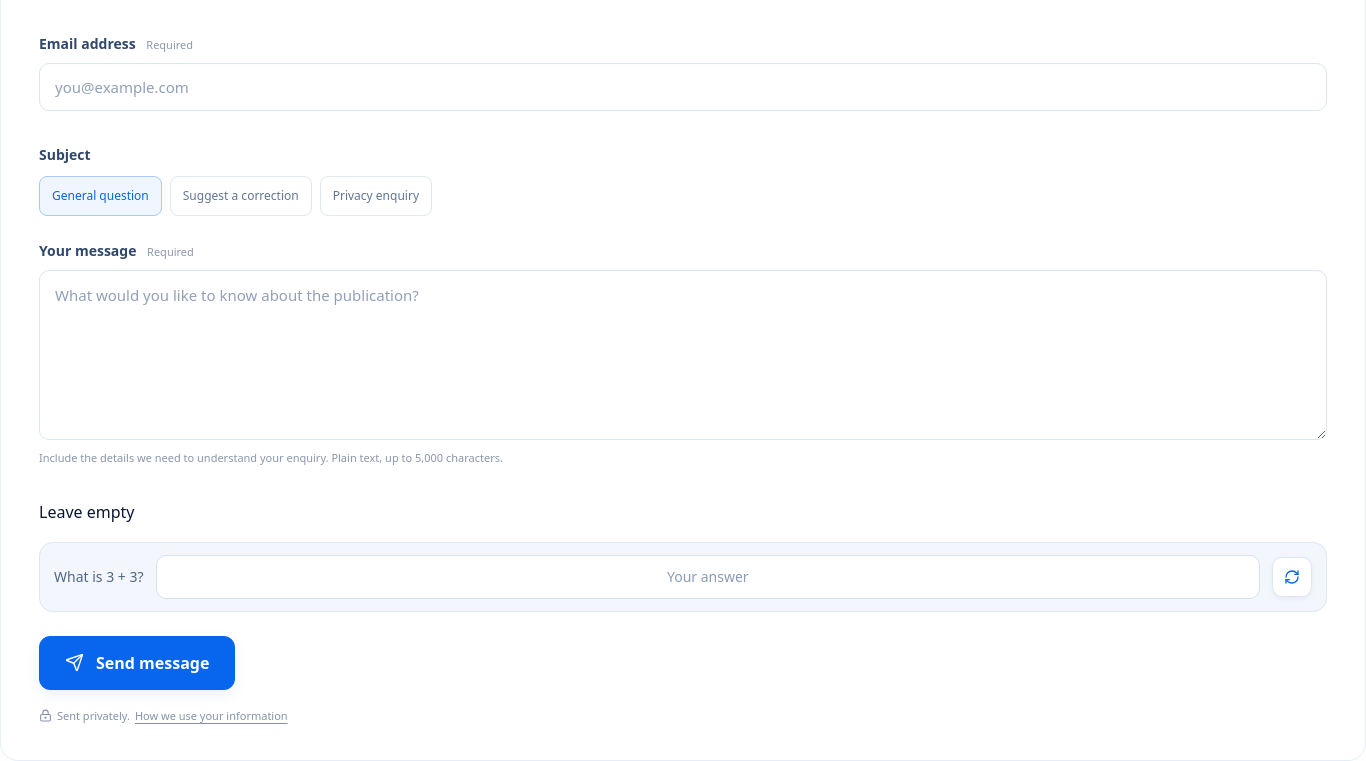
Test: general contact › validates required information and focuses the first invalid field
This screenshot has width=1366, height=761.
(page scrolled)
Click the button "Send message". click: (137, 663)
box: [39, 636, 235, 690]
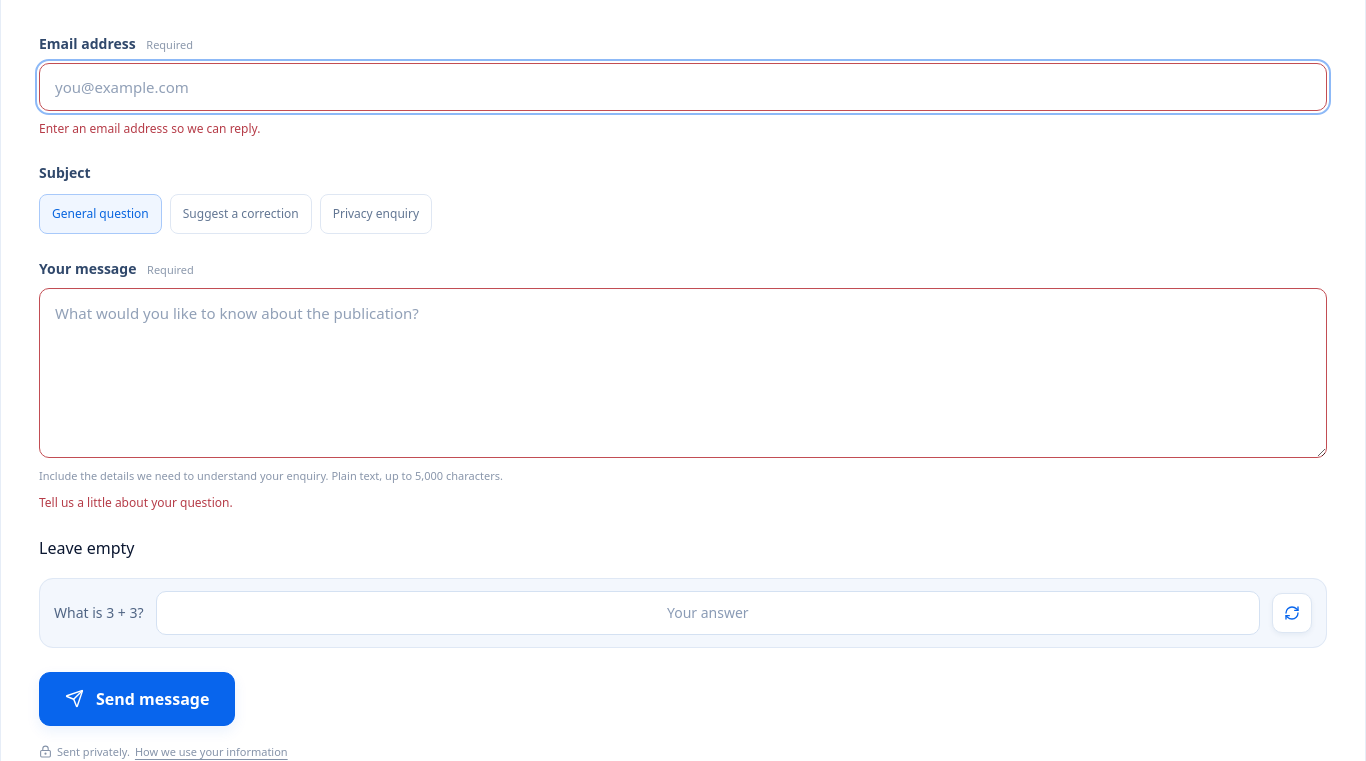
Now the text "Enter an email address so we can reply." is shown, box [39, 120, 260, 137]
